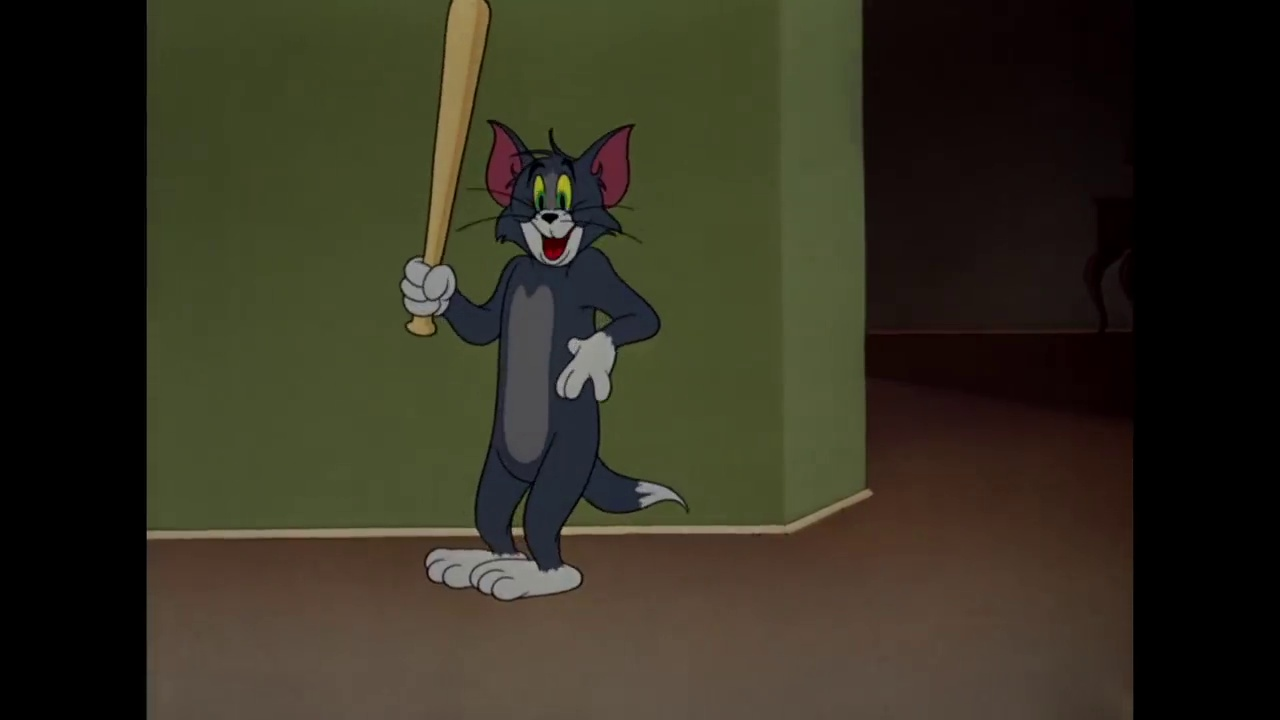tom: (472, 110, 646, 266)
